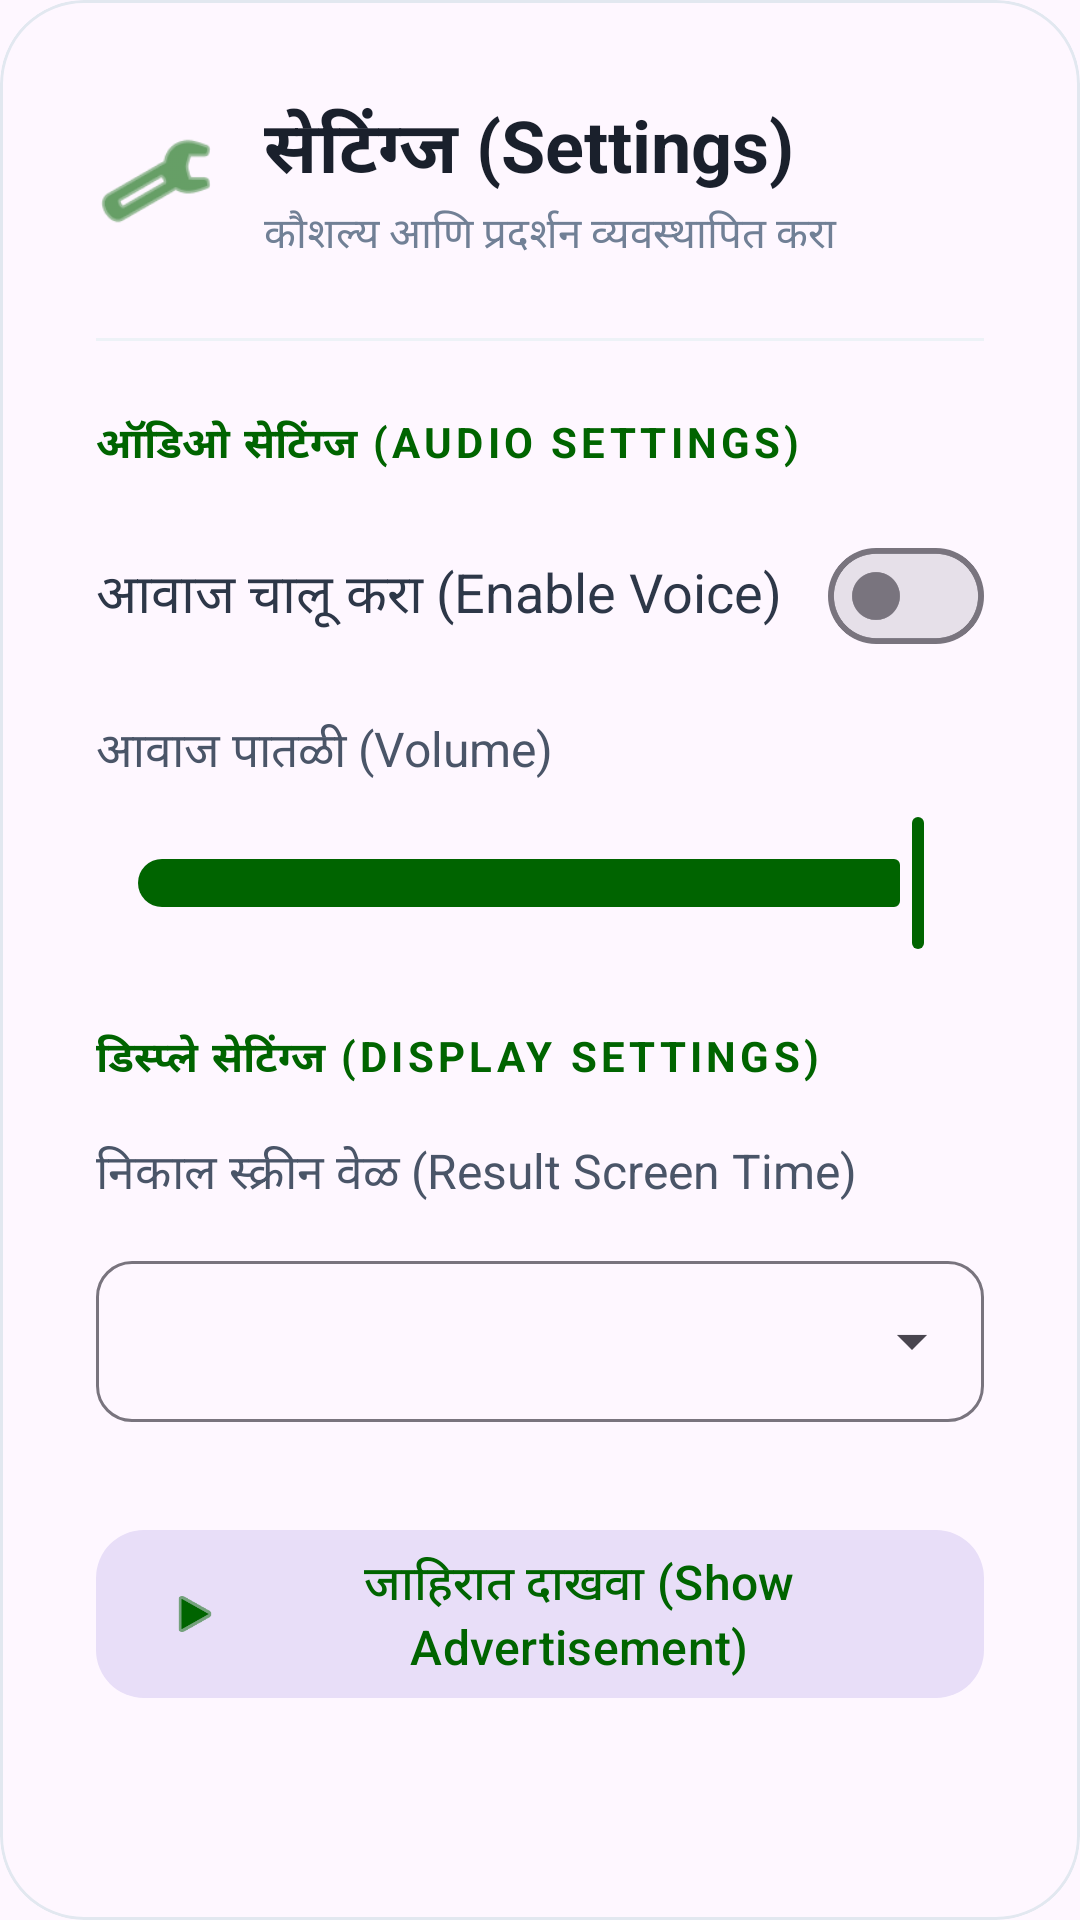

Where to tap for icons on this 1080×1920 app screen, as (x,y):
manage: (156,181)
